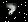person: (7, 4, 18, 17)
